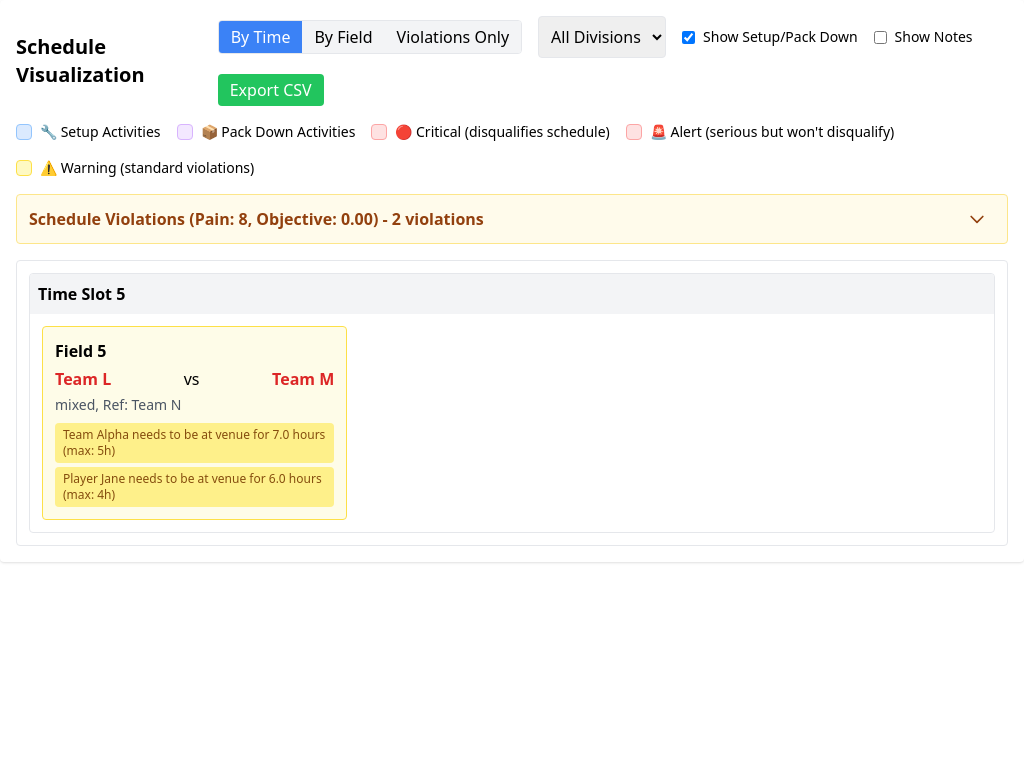
Test: ScheduleVisualization › shows by-how-much details for specific teams and players when toggled on
Click the button "Violations Only" at (453, 37), box x1=385 y1=21 x2=521 y2=53
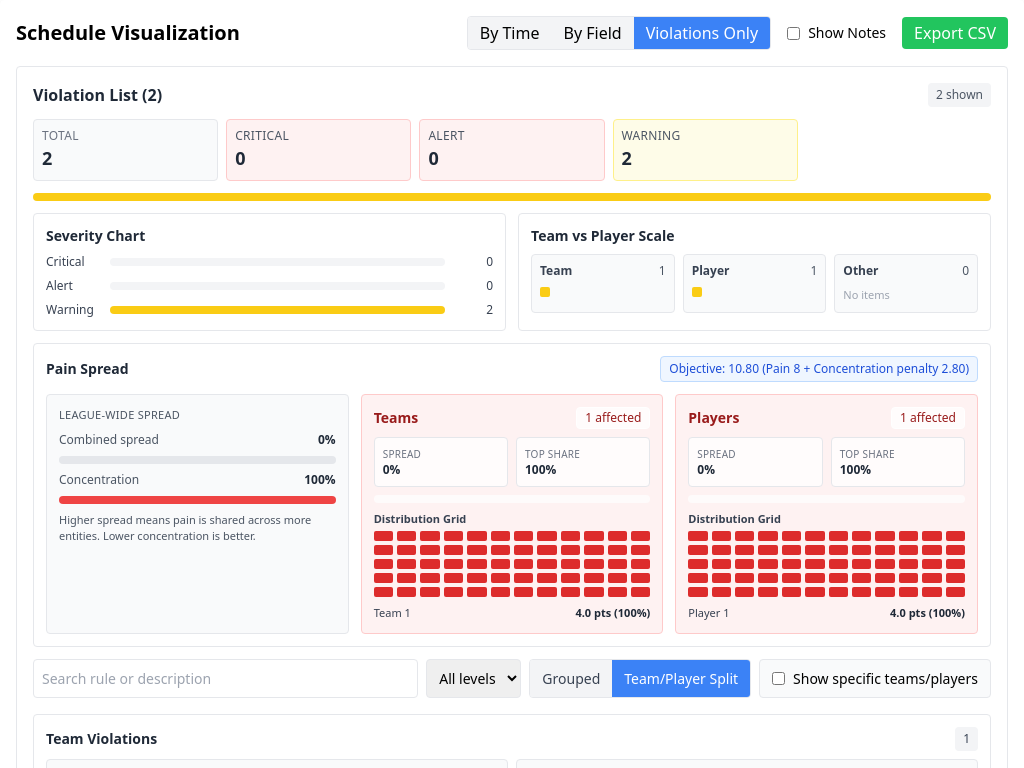
Click the checkbox labelled "Show specific teams/players" at (779, 678), box x1=772 y1=672 x2=785 y2=685
(page scrolled)
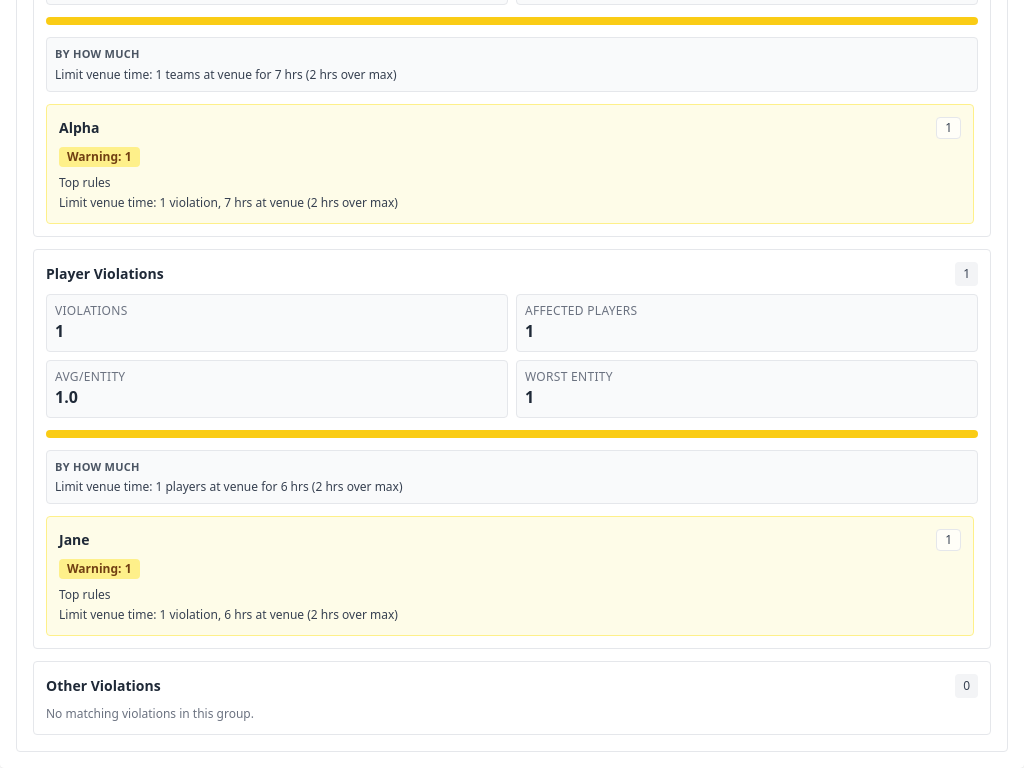
Expected: the text "7 hrs at venue (2 hrs over max)" is shown, x1=218 y1=194 x2=398 y2=210
Expected: the text "6 hrs at venue (2 hrs over max)" is shown, x1=218 y1=606 x2=398 y2=623
